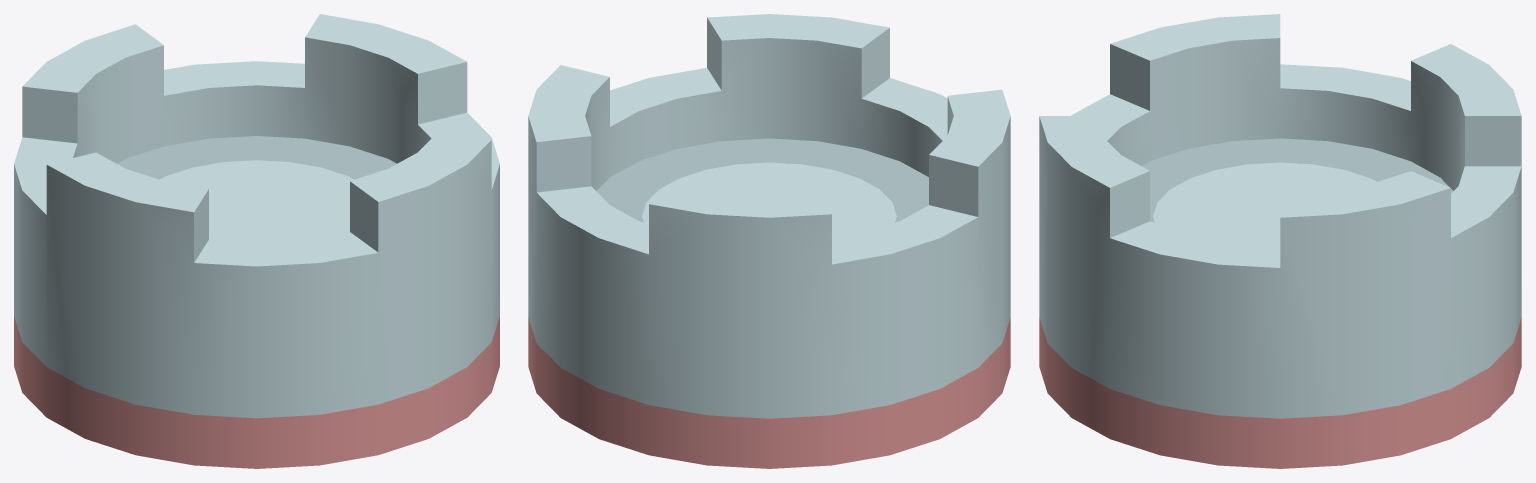
File: towerRound_topA.glb
The picture shows the model from 3 angles, left to right: view 1: azimuth 30°, elevation 25°; view 2: azimuth 150°, elevation 25°; view 3: azimuth 270°, elevation 25°; orthographic projection.
Visible parts, largest first — view 1: towerRound_topA; view 2: towerRound_topA; view 3: towerRound_topA.
Part boxes in pixels (bbox=[...]): towerRound_topA: bbox=[14, 14, 499, 468]; towerRound_topA: bbox=[528, 14, 1010, 468]; towerRound_topA: bbox=[1039, 14, 1521, 468].
Size of the model in its own units: 0.87 by 0.5 by 0.87.
